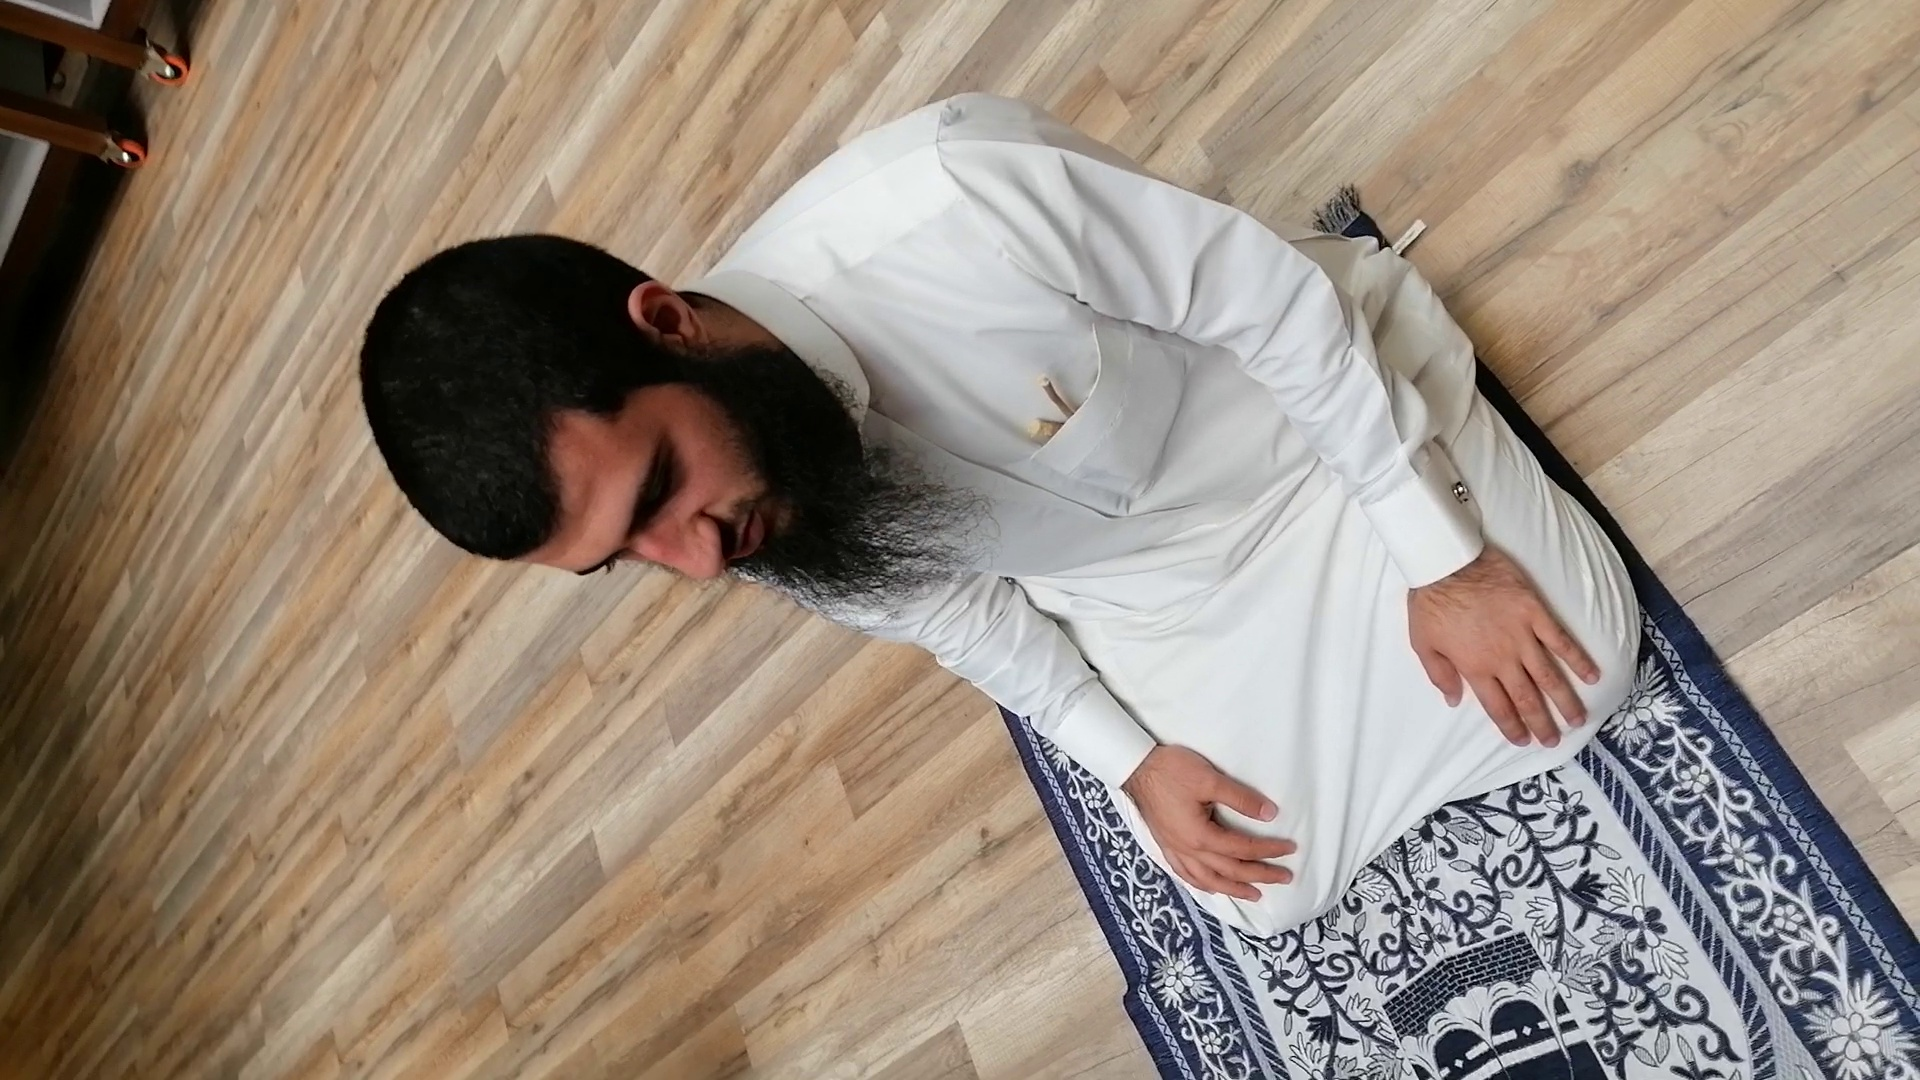sitting: (328, 63, 1648, 984)
